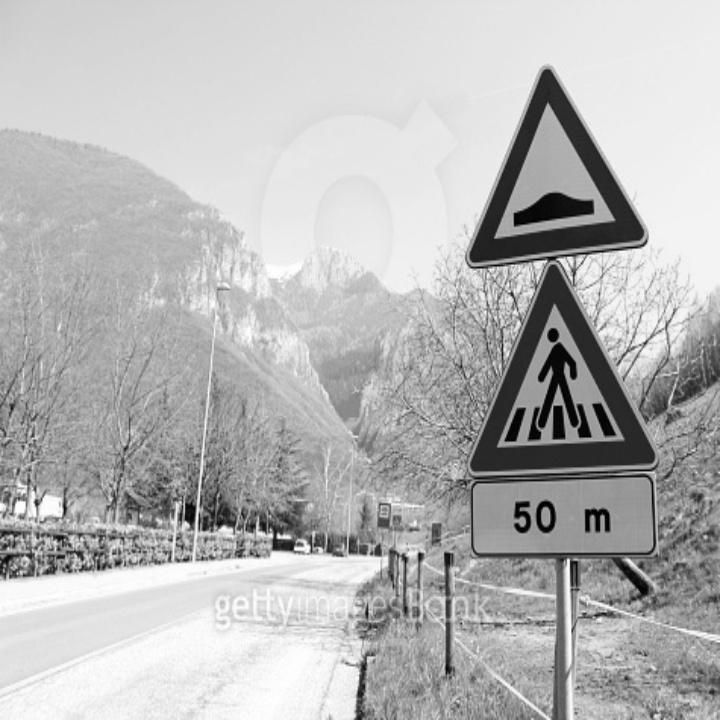bump: (514, 171, 604, 234)
cross: (496, 325, 631, 448)
